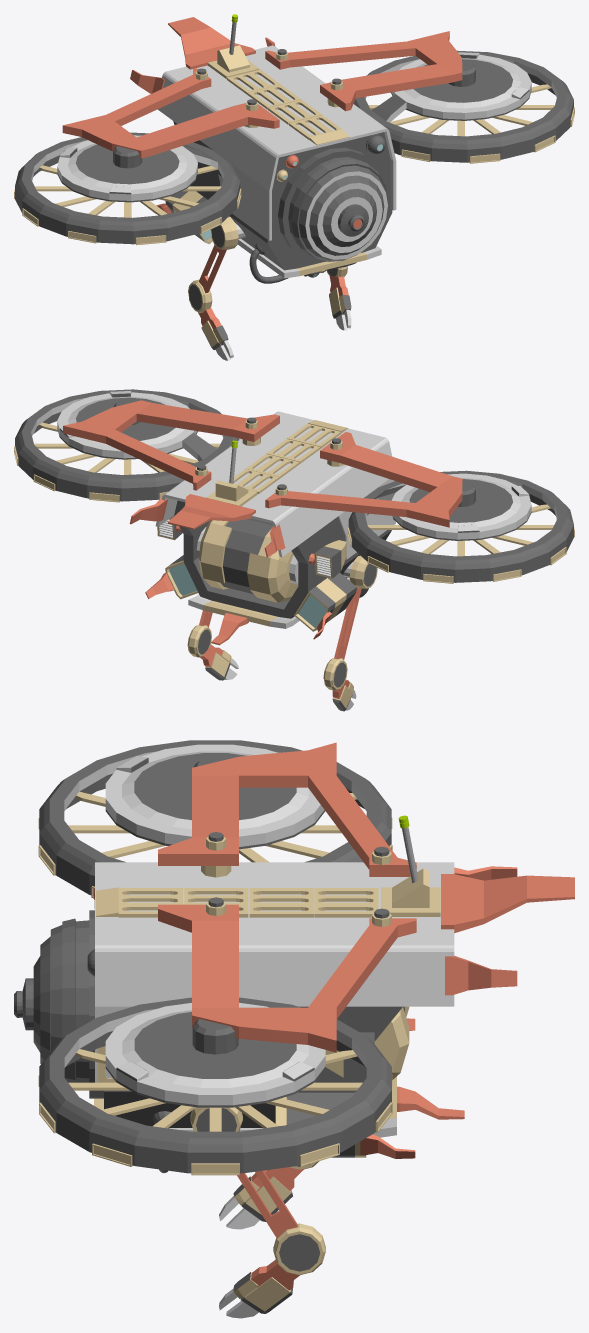
Rendered from drone.fbx.
3 views of the same model, one above another, from view 1: azimuth 30°, elevation 25°; view 2: azimuth 150°, elevation 25°; view 3: azimuth 270°, elevation 25° (orthographic). The views are drawn at different scales.
Parts seen in each view (by area): view 1: drone; view 2: drone; view 3: drone.
Part boxes in pixels (x1,y1,x2,y2): drone: (14, 14, 574, 360); drone: (14, 389, 574, 711); drone: (14, 740, 574, 1318).
Size of the model in its own units: 16.12 by 8.46 by 9.37.
